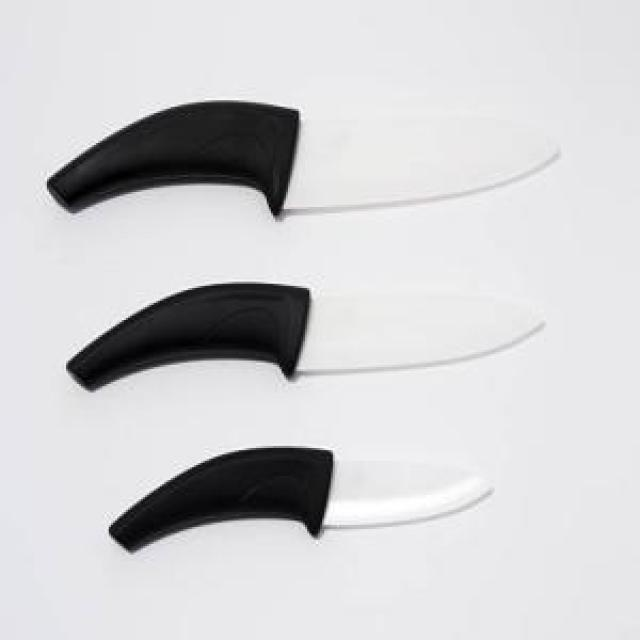knife: (64, 271, 549, 411), (45, 102, 567, 221), (102, 446, 496, 576)
